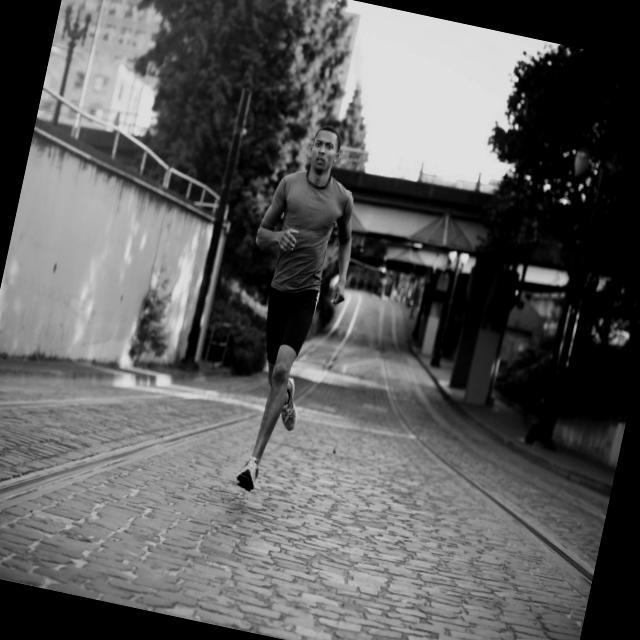person: (192, 97, 385, 506)
